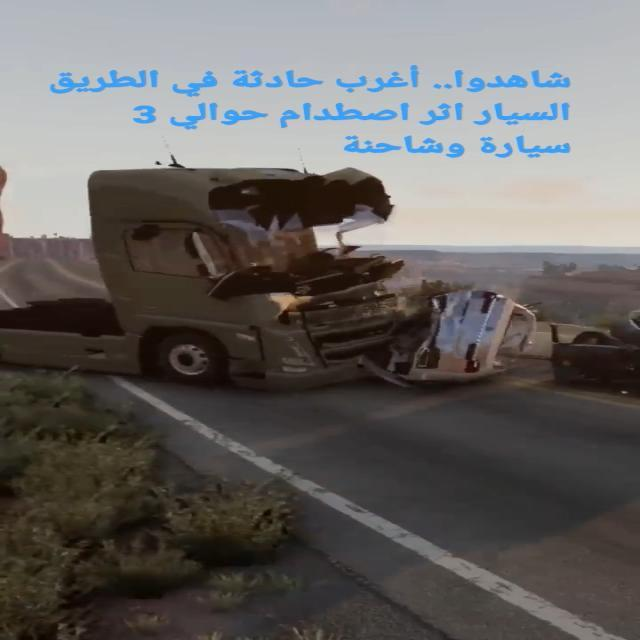accident: (82, 157, 534, 391)
